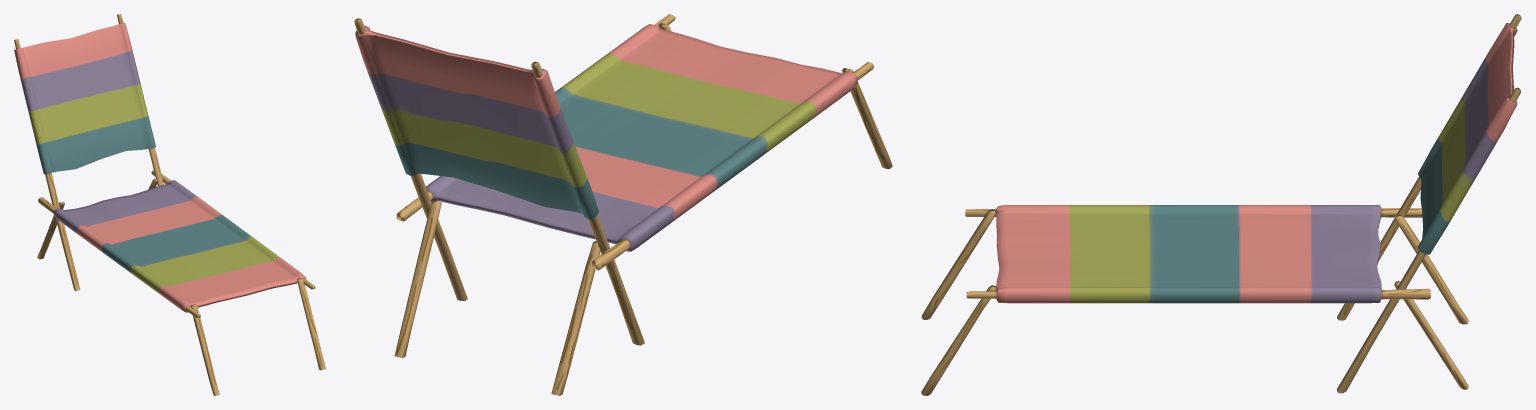
The model's file is Chair11_GardenLounger1_low.glb.
The picture shows the model from 3 angles, left to right: view 1: azimuth 30°, elevation 25°; view 2: azimuth 150°, elevation 25°; view 3: azimuth 270°, elevation 25°; orthographic projection. The views are drawn at different scales.
Parts seen in each view (by area): view 1: Chair11_GardenLounger1_low; view 2: Chair11_GardenLounger1_low; view 3: Chair11_GardenLounger1_low.
Boxes of the visible parts, x1,y1,x2,y2 form: Chair11_GardenLounger1_low: (14, 14, 325, 395); Chair11_GardenLounger1_low: (354, 14, 892, 395); Chair11_GardenLounger1_low: (921, 14, 1521, 395).
Size of the model in its own units: 0.6074 by 0.9822 by 1.75.
1 material, 1 textured.
